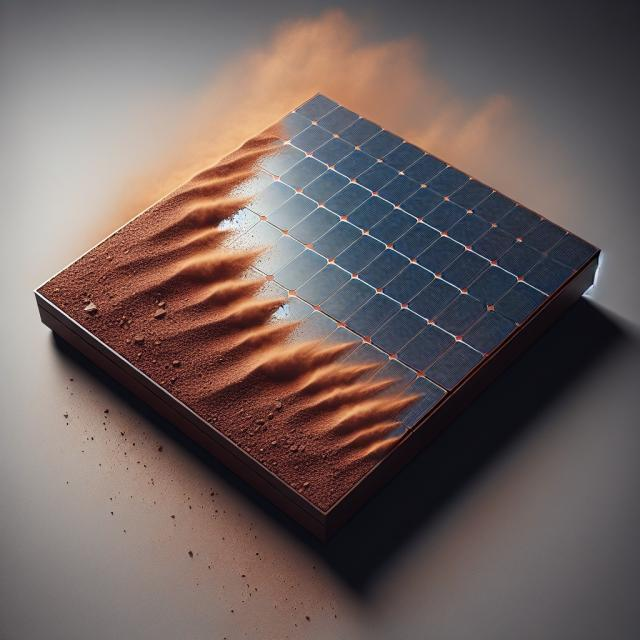Anomaly Solar Panel: (34, 0, 598, 548)
Surface Contaminant: (32, 102, 492, 571)
